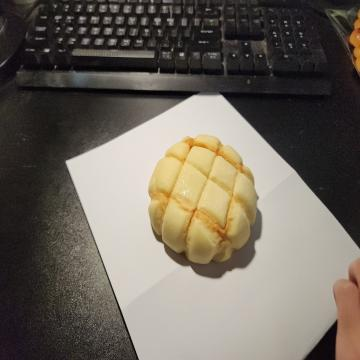melon_bread: (150, 134, 259, 265)
